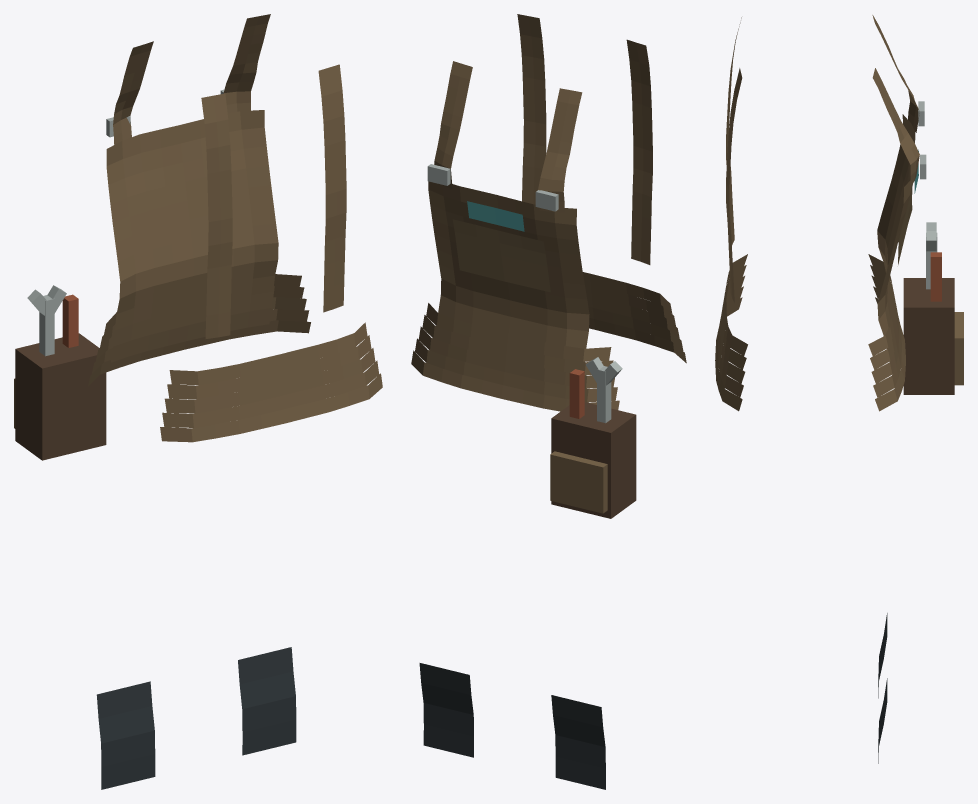
Rendered from lwf_maintenance_female_overlay_v1.glb.
The picture shows the model from 3 angles, left to right: view 1: azimuth 30°, elevation 25°; view 2: azimuth 150°, elevation 25°; view 3: azimuth 270°, elevation 25°; orthographic projection. The views are drawn at different scales.
Parts seen in each view (by area): view 1: LWF_Maintenance_Female_Overlay; view 2: LWF_Maintenance_Female_Overlay; view 3: LWF_Maintenance_Female_Overlay.
Boxes of the visible parts, <box> form: LWF_Maintenance_Female_Overlay: <box>14,14,382,789</box>; LWF_Maintenance_Female_Overlay: <box>411,14,686,789</box>; LWF_Maintenance_Female_Overlay: <box>715,15,963,763</box>.
Size of the model in its own units: 0.3489 by 0.969 by 0.3125.
Materials: 1 (1 with a texture image).
